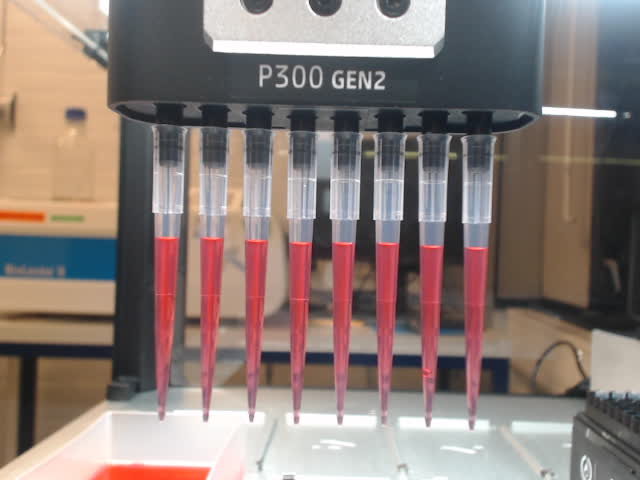Liquid: (150, 233, 182, 423), (459, 245, 491, 434), (415, 243, 447, 430), (240, 235, 270, 425), (372, 239, 402, 429), (198, 234, 226, 424), (286, 238, 314, 426), (329, 239, 357, 427)
Tip: (148, 121, 191, 424), (370, 130, 411, 429), (459, 134, 500, 433), (414, 132, 454, 430), (326, 129, 365, 427), (238, 127, 276, 425), (195, 126, 232, 426), (282, 128, 319, 426)
